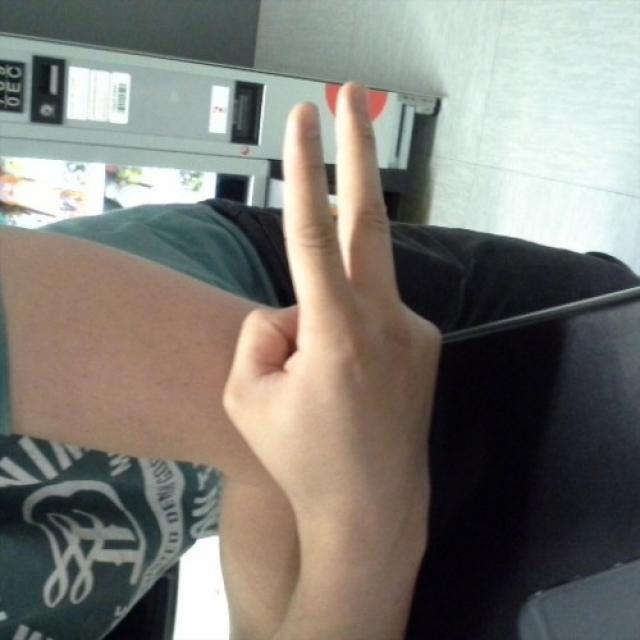scissors: (221, 80, 444, 565)
